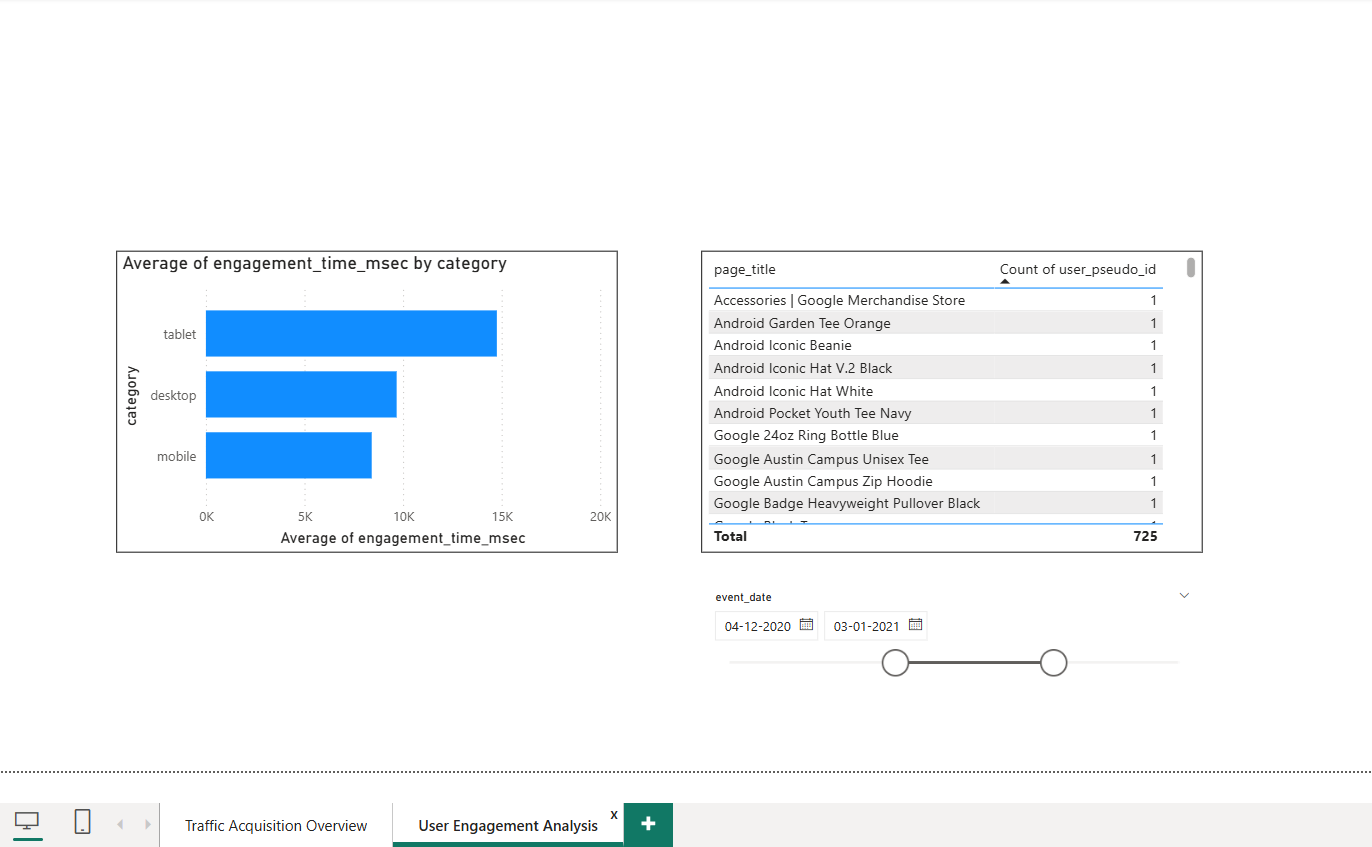

What the dashboard file says about the page in this screenshot:
{"tool":"powerbi","page":{"name":"User Engagement Analysis","canvas":[1280,720],"ordinal":1},"visuals":[{"type":"clusteredBarChart","fields":{"Category":["dataset.category"],"Y":["Avg(dataset.engagement_time_msec)"]},"box":[108.2,236.1,466.6,281.1],"z":0},{"type":"tableEx","fields":{"Values":["dataset.page_title","Count(dataset.user_pseudo_id)"]},"box":[652.1,236.1,466.6,281.1],"z":1000},{"type":"slicer","fields":{"Values":["dataset.event_date"]},"box":[652.1,546.7,466.6,95.6],"z":1001}]}

Visuals, with their boxes in screenshot pixels (x1, y1, x2, y2):
clusteredBarChart - dataset.category x Avg(dataset.engagement_time_msec): {"left": 125, "top": 250, "right": 618, "bottom": 547}
tableEx - dataset.page_title x Count(dataset.user_pseudo_id): {"left": 700, "top": 250, "right": 1193, "bottom": 547}
slicer - dataset.event_date: {"left": 700, "top": 578, "right": 1193, "bottom": 679}
